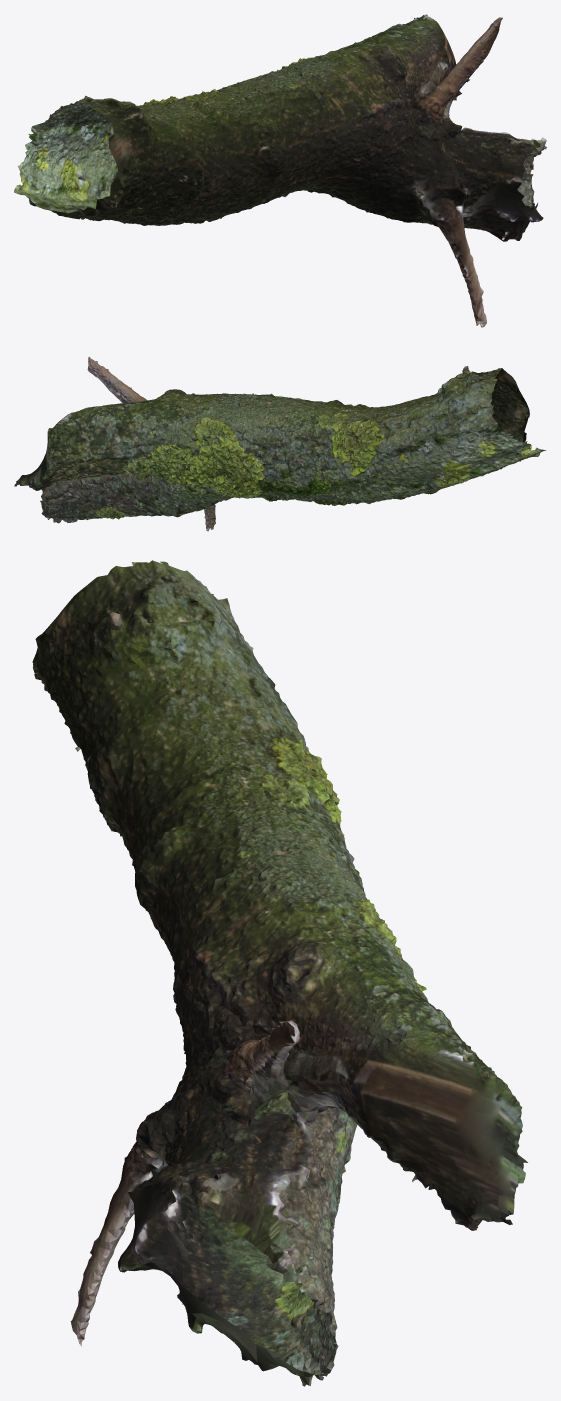
The model's file is fagally2.obj.
The picture shows the model from 3 angles, top to bottom: view 1: azimuth 30°, elevation 25°; view 2: azimuth 150°, elevation 25°; view 3: azimuth 270°, elevation 25°; orthographic projection. The views are drawn at different scales.
Bounding box in the file's own units: 11.86 × 5.92 × 5.47.
Materials: 1 (1 with a texture image).
